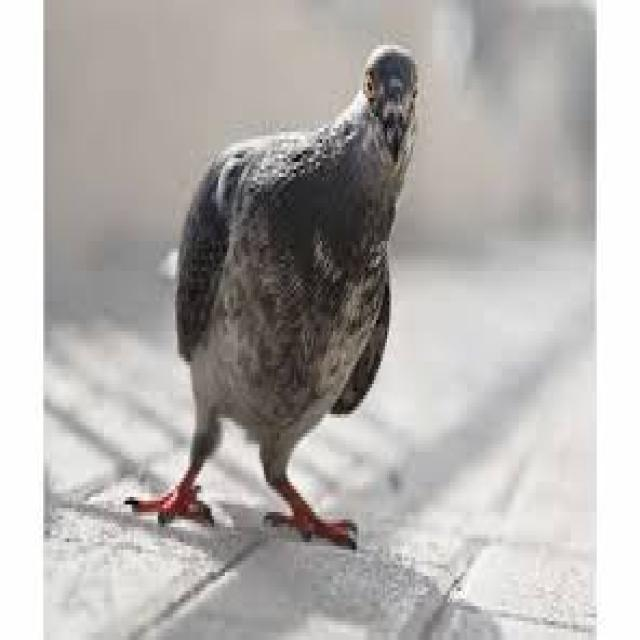pigeon: (114, 26, 442, 564)
